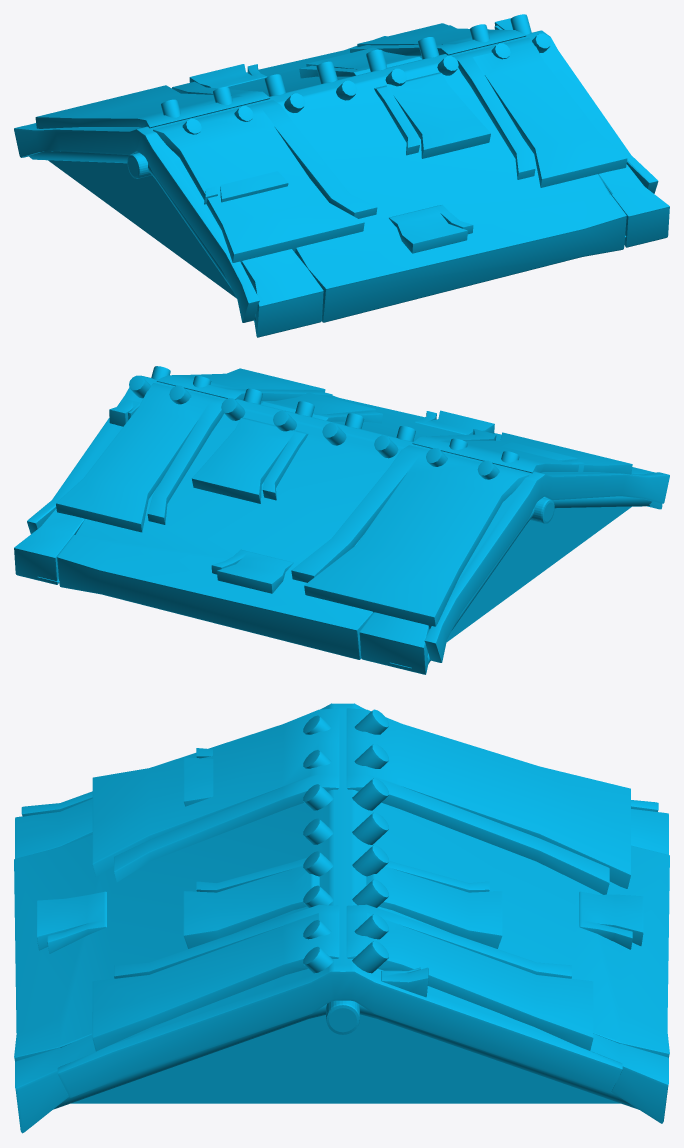
File: SM_Clay_Roof_02.fbx
3 views of the same model, one above another, from view 1: azimuth 30°, elevation 25°; view 2: azimuth 150°, elevation 25°; view 3: azimuth 270°, elevation 25° (orthographic). The views are drawn at different scales.
Parts seen in each view (by area): view 1: SM_Clay_Roof_02; view 2: SM_Clay_Roof_02; view 3: SM_Clay_Roof_02.
Part boxes in pixels (bbox=[...]): SM_Clay_Roof_02: bbox=[14, 14, 669, 337]; SM_Clay_Roof_02: bbox=[14, 366, 669, 674]; SM_Clay_Roof_02: bbox=[14, 703, 669, 1133].
Bounding box in the file's own units: 2.04 × 0.6192 × 2.02.
